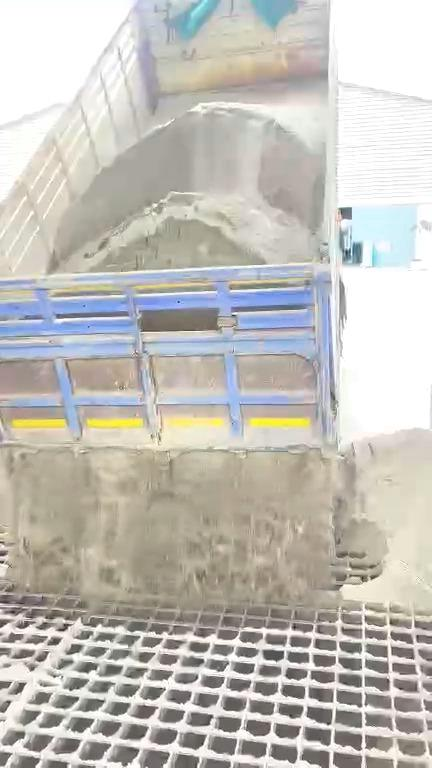sand: (7, 430, 432, 603), (59, 82, 330, 275)
